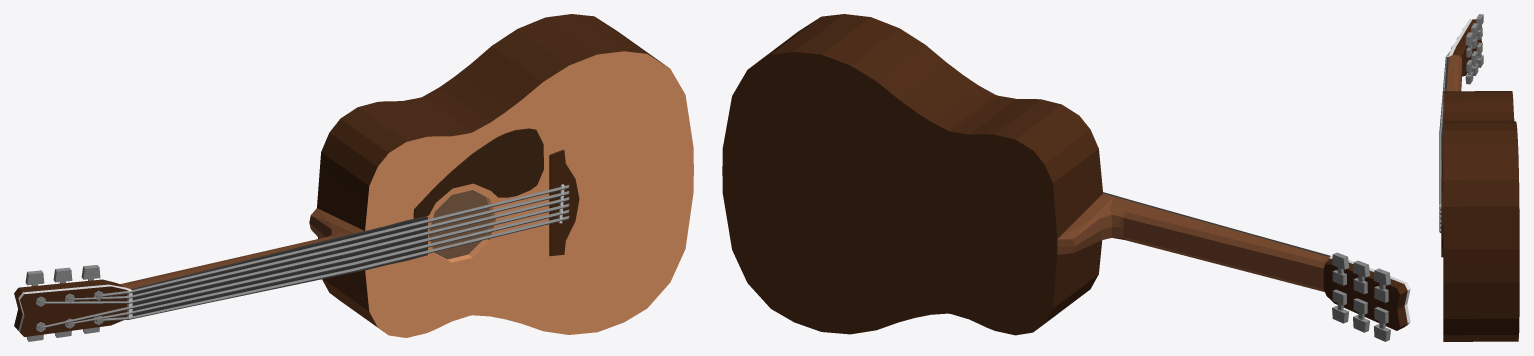
3 renders of one model, left to right at view 1: azimuth 30°, elevation 25°; view 2: azimuth 150°, elevation 25°; view 3: azimuth 270°, elevation 25°, orthographic. The views are drawn at different scales.
Visible parts, largest first — view 1: Guitar, Strings, Plane; view 2: Guitar; view 3: Guitar, Strings, Plane.
Part boxes in pixels (x1=…): Guitar: x1=14, y1=14, x2=693, y2=341; Strings: x1=43, y1=185, x2=569, y2=327; Plane: x1=413, y1=128, x2=543, y2=218; Guitar: x1=722, y1=14, x2=1410, y2=341; Guitar: x1=1439, y1=14, x2=1519, y2=341; Strings: x1=1439, y1=50, x2=1450, y2=232; Plane: x1=1442, y1=136, x2=1443, y2=177.
Bounding box in the file's own units: 5.34 × 2.16 × 0.7799.
